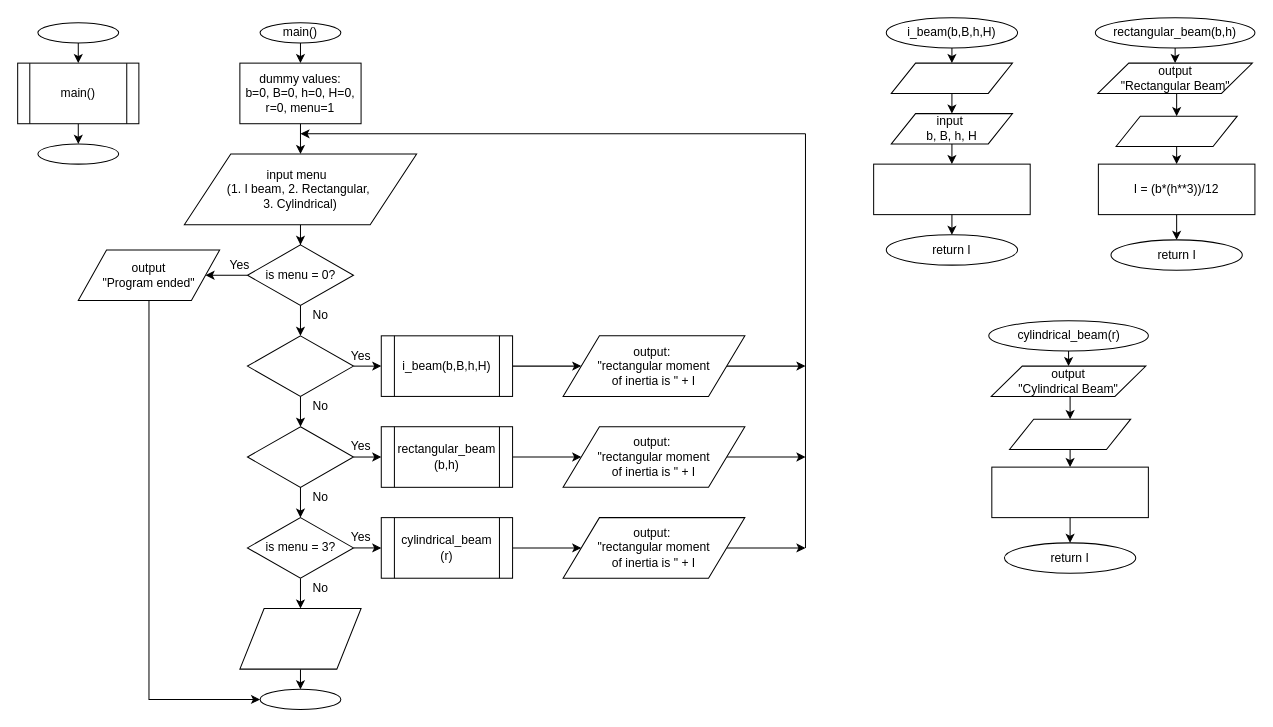
Some shapes in this 1273 by 727 pixel diagram are drawn without their labels. The box of each missing label's shape, as (x1, y1, x2, y2) in pixels:
End: (37, 143, 119, 164)
I = ((B*(H**3))-(b*(h**3)))/12: (873, 163, 1030, 215)
I = (3.142 * (r**4))/4: (991, 466, 1148, 518)
input b, h: (1115, 115, 1237, 146)
input r: (1008, 418, 1131, 449)
is menu = 1?: (246, 335, 354, 396)
is menu = 2?: (246, 426, 354, 487)
output "I-beam": (890, 62, 1013, 93)
output error: invalid menu item: (239, 608, 361, 669)
return: (259, 688, 341, 710)
Start: (37, 22, 119, 43)
